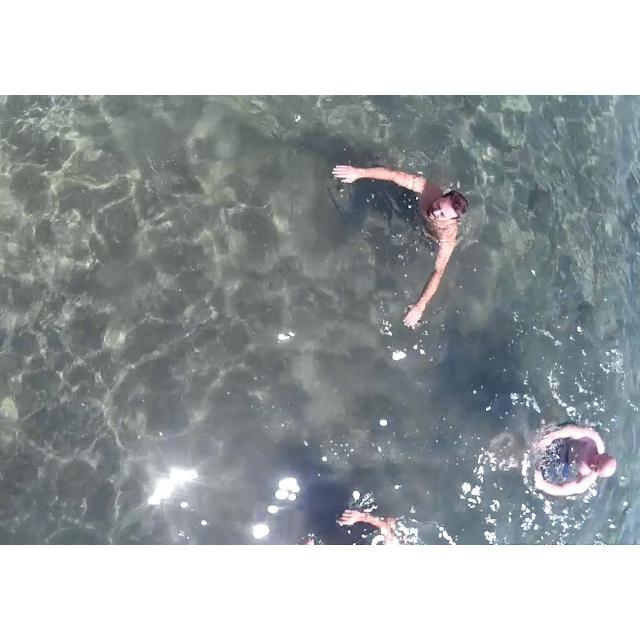human: (317, 130, 471, 356), (499, 394, 618, 514)
